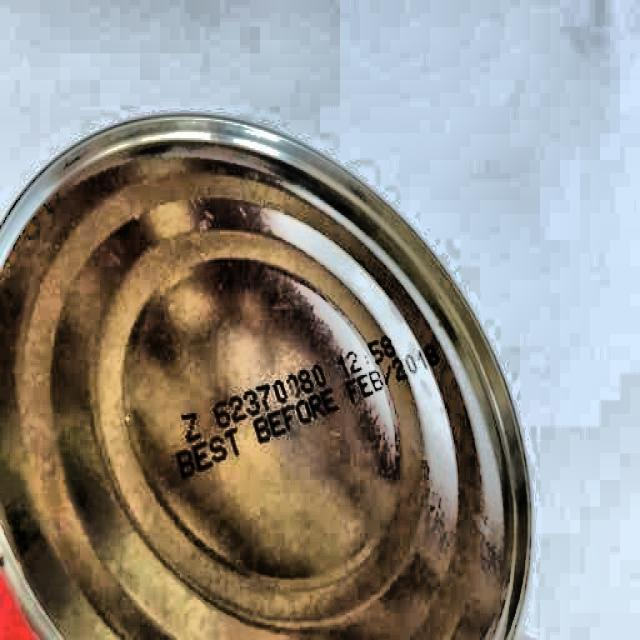metal: (0, 110, 538, 638)
